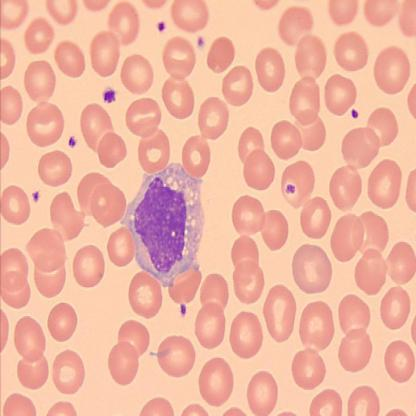Monocyte: (119, 160, 205, 289)
